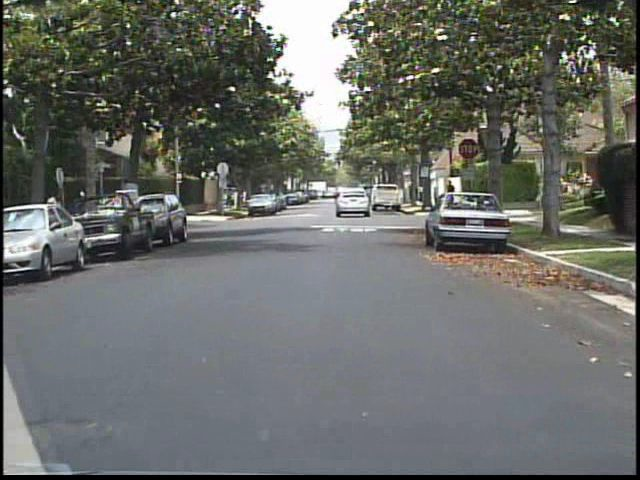person: (44, 185, 69, 256), (442, 177, 459, 213), (417, 183, 424, 203)
